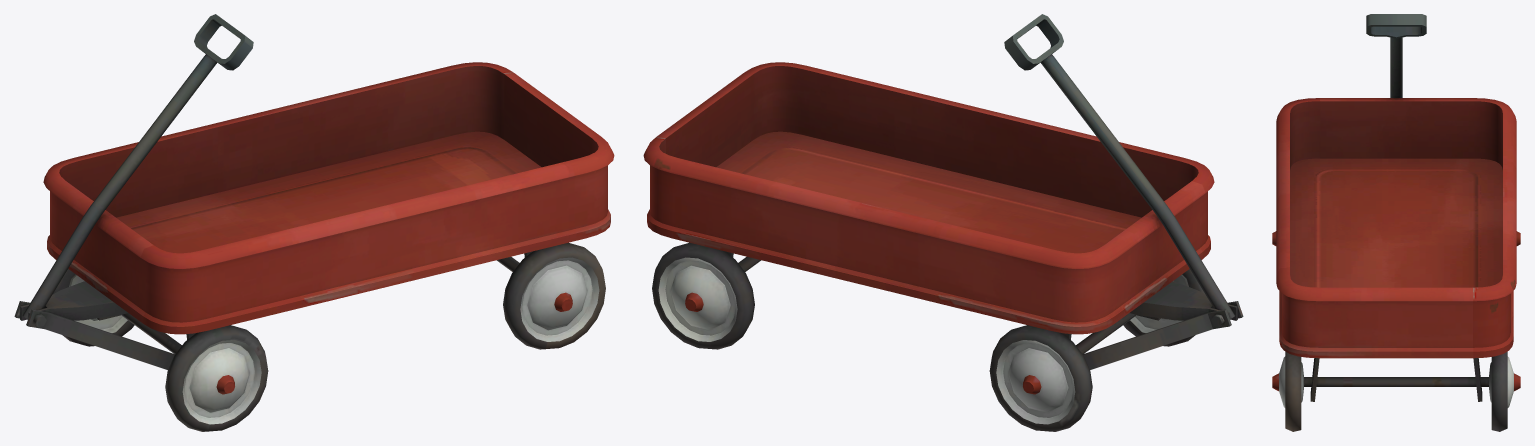
Rendered from redwagon.glb.
3 renders of one model, left to right at view 1: azimuth 30°, elevation 25°; view 2: azimuth 150°, elevation 25°; view 3: azimuth 270°, elevation 25°, orthographic. The views are drawn at different scales.
Parts seen in each view (by area): view 1: redwagon; view 2: redwagon; view 3: redwagon.
Part boxes in pixels (box(x1,y1,x2,y2)): redwagon: box(14, 14, 614, 431); redwagon: box(643, 14, 1243, 431); redwagon: box(1272, 14, 1520, 431).
Bounding box in the file's own units: 1.29 × 0.7849 × 0.5876.
Materials: 1 (1 with a texture image).
